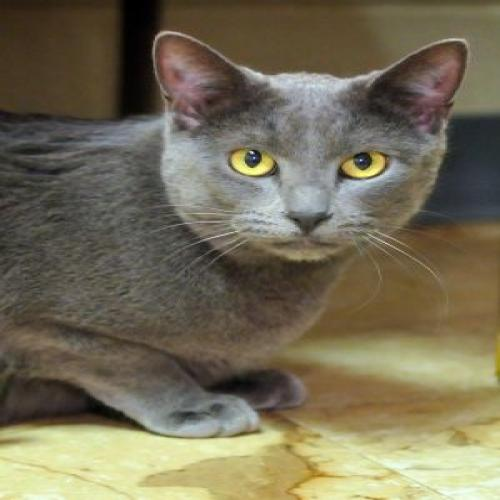rblue: (143, 22, 479, 277)
